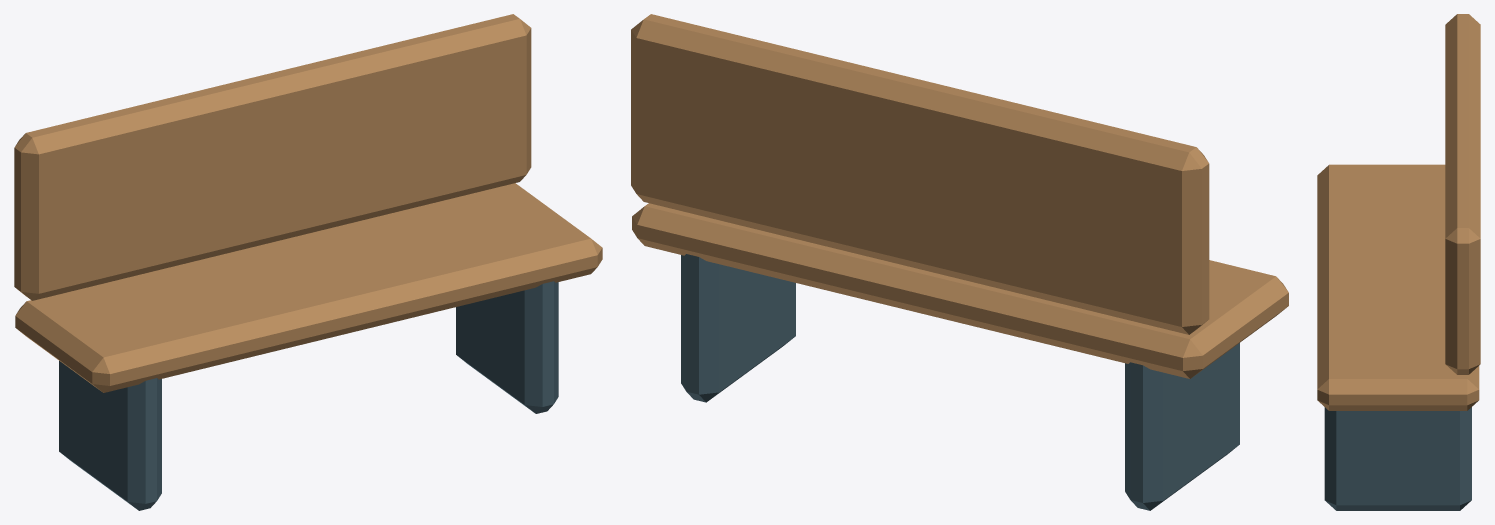
Rendered from park-bench.glb.
3 views of the same model, side by side, from view 1: azimuth 30°, elevation 25°; view 2: azimuth 150°, elevation 25°; view 3: azimuth 270°, elevation 25° (orthographic). The views are drawn at different scales.
Visible parts, largest first — view 1: bench-back, bench-seat, bench-leg, bench-leg.001; view 2: bench-back, bench-seat, bench-leg, bench-leg.001; view 3: bench-seat, bench-leg.001, bench-back.
Part boxes in pixels (<box>): bench-back: <box>14,14,531,300</box>; bench-seat: <box>15,183,602,392</box>; bench-leg: <box>59,361,161,510</box>; bench-leg.001: <box>456,281,558,413</box>; bench-back: <box>631,14,1209,334</box>; bench-seat: <box>632,203,1288,378</box>; bench-leg: <box>1125,343,1239,510</box>; bench-leg.001: <box>681,254,795,402</box>; bench-seat: <box>1317,164,1479,410</box>; bench-leg.001: <box>1324,407,1471,510</box>; bench-back: <box>1445,14,1480,374</box>.
Bounding box in the file's own units: 1.8 × 1.13 × 0.555.
